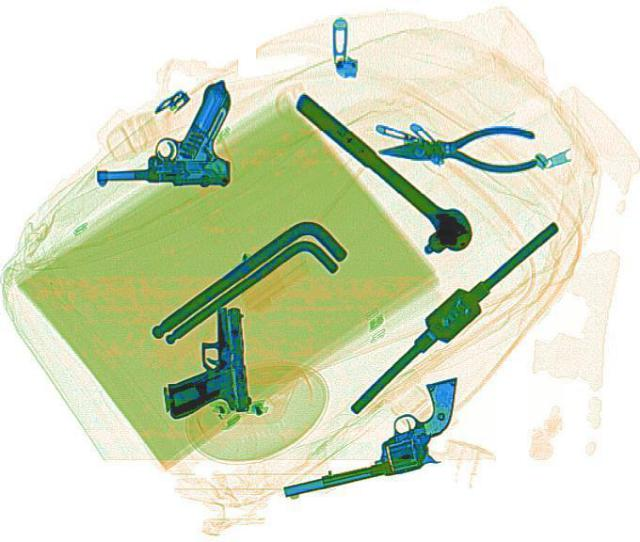Gun: (254, 374, 483, 497), (94, 77, 230, 186), (156, 304, 248, 417)
Pliers: (377, 124, 537, 173)
